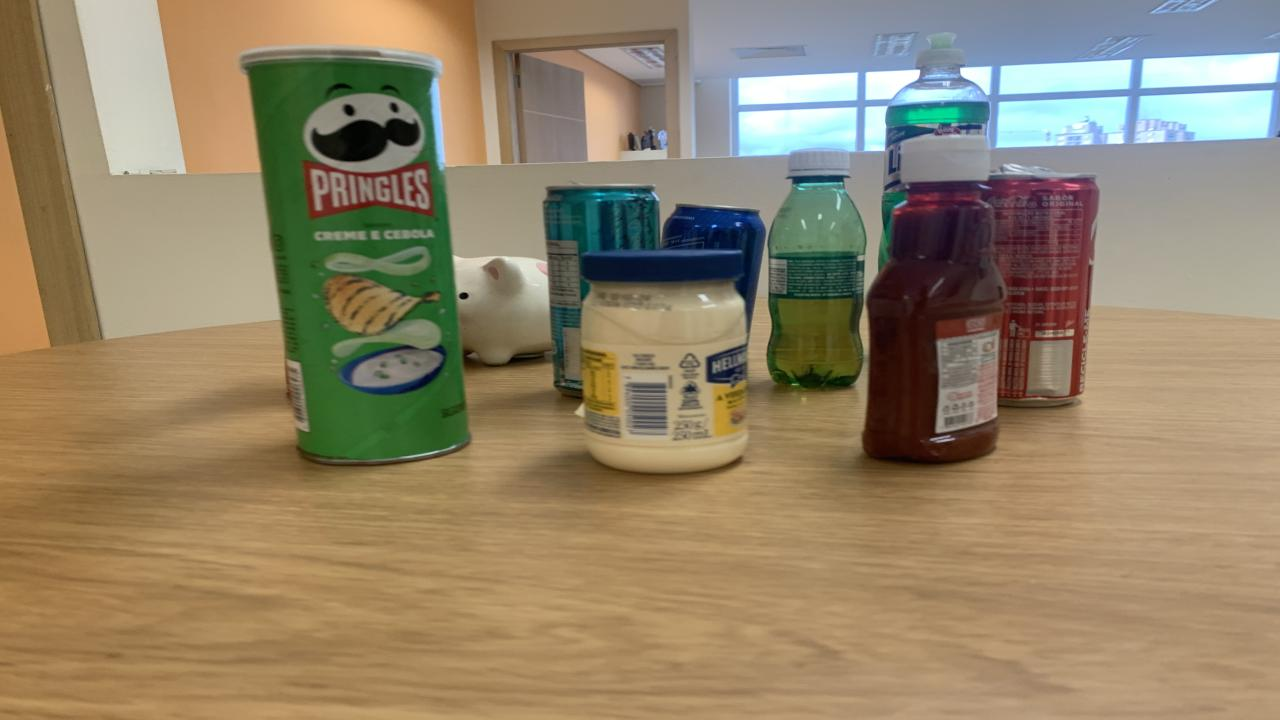Coke-Drinks: (988, 165, 1100, 407)
Detergent-Cleanup_Items: (878, 32, 990, 268)
Guarana-Drinks: (768, 150, 865, 388)
Ketchup-Pantry_Items: (862, 135, 1005, 463)
Mayonnaise-Pantry_Items: (580, 249, 748, 472)
Pig_Safe-Miscellaneous: (452, 257, 552, 366)
Pringles-Snacks: (242, 47, 470, 463)
Tea-Drinks: (542, 184, 660, 398)
Tonic-Drinks: (662, 204, 765, 330)
